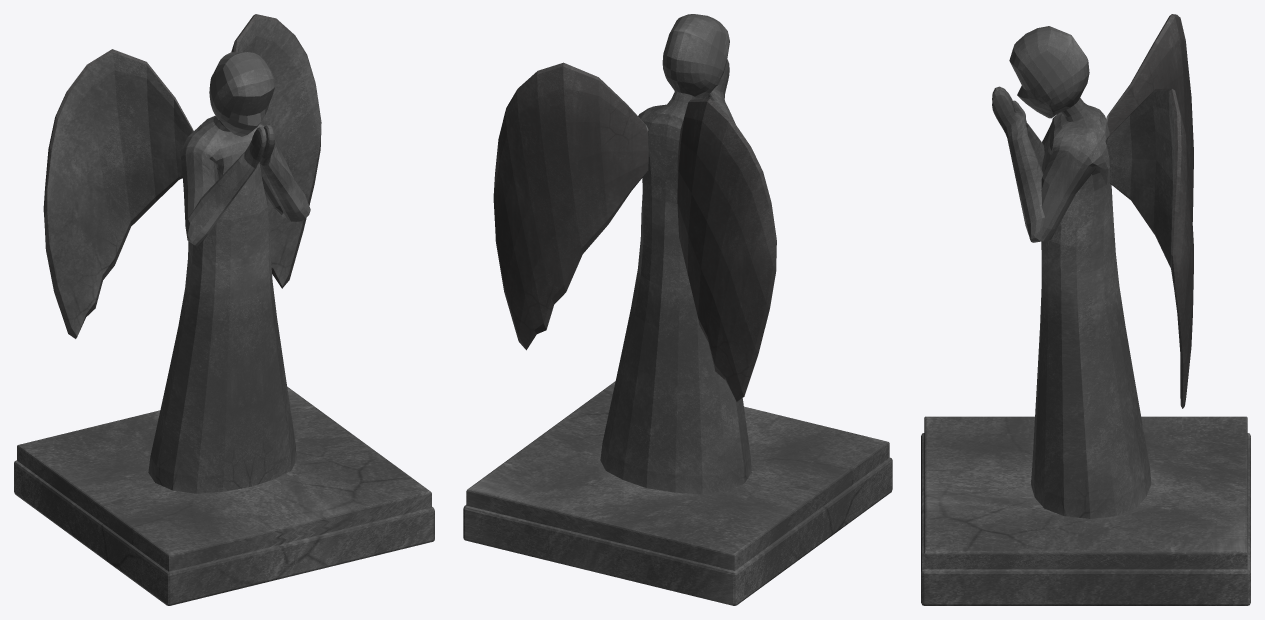
Rendered from AngelStatue001_Model.fbx.
The picture shows the model from 3 angles, left to right: view 1: azimuth 30°, elevation 25°; view 2: azimuth 150°, elevation 25°; view 3: azimuth 270°, elevation 25°; orthographic projection. The views are drawn at different scales.
Parts seen in each view (by area): view 1: AngelStatue001; view 2: AngelStatue001; view 3: AngelStatue001.
Boxes of the visible parts, x1=… form: AngelStatue001: x1=14, y1=14, x2=434, y2=605; AngelStatue001: x1=463, y1=14, x2=892, y2=605; AngelStatue001: x1=921, y1=14, x2=1250, y2=605.
Size of the model in its own units: 169 by 279 by 164.
